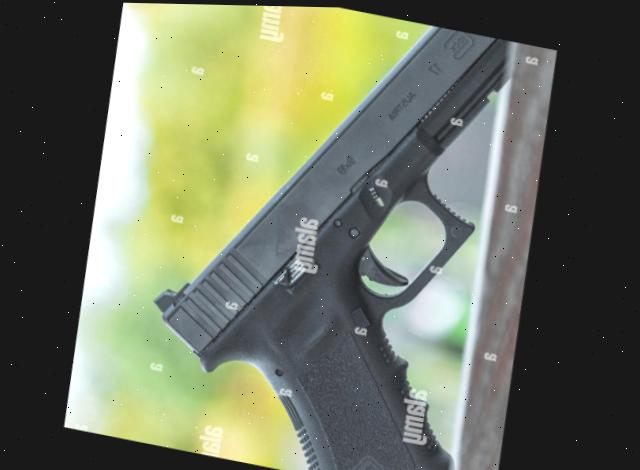pistol: (114, 2, 536, 470)
